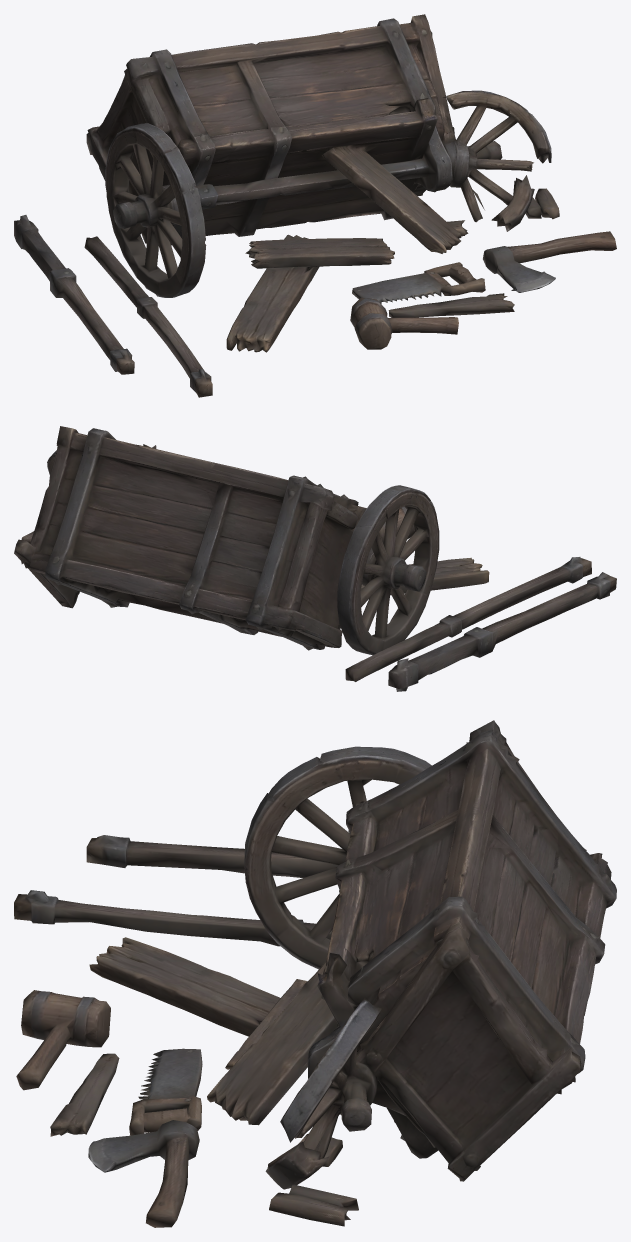
Rendered from carro-volcado.glb.
3 renders of one model, top to bottom at view 1: azimuth 30°, elevation 25°; view 2: azimuth 150°, elevation 25°; view 3: azimuth 270°, elevation 25°, orthographic. The views are drawn at different scales.
Visible parts, largest first — view 1: tripo_node_40537826-6c70-4143-9ac1-e535811ecb07; view 2: tripo_node_40537826-6c70-4143-9ac1-e535811ecb07; view 3: tripo_node_40537826-6c70-4143-9ac1-e535811ecb07.
Boxes of the visible parts, <box> form: tripo_node_40537826-6c70-4143-9ac1-e535811ecb07: <box>14,14,616,397</box>; tripo_node_40537826-6c70-4143-9ac1-e535811ecb07: <box>14,426,616,691</box>; tripo_node_40537826-6c70-4143-9ac1-e535811ecb07: <box>14,720,616,1227</box>.
Size of the model in its own units: 1 by 0.3687 by 0.7248.
Materials: 1 (1 with a texture image).
